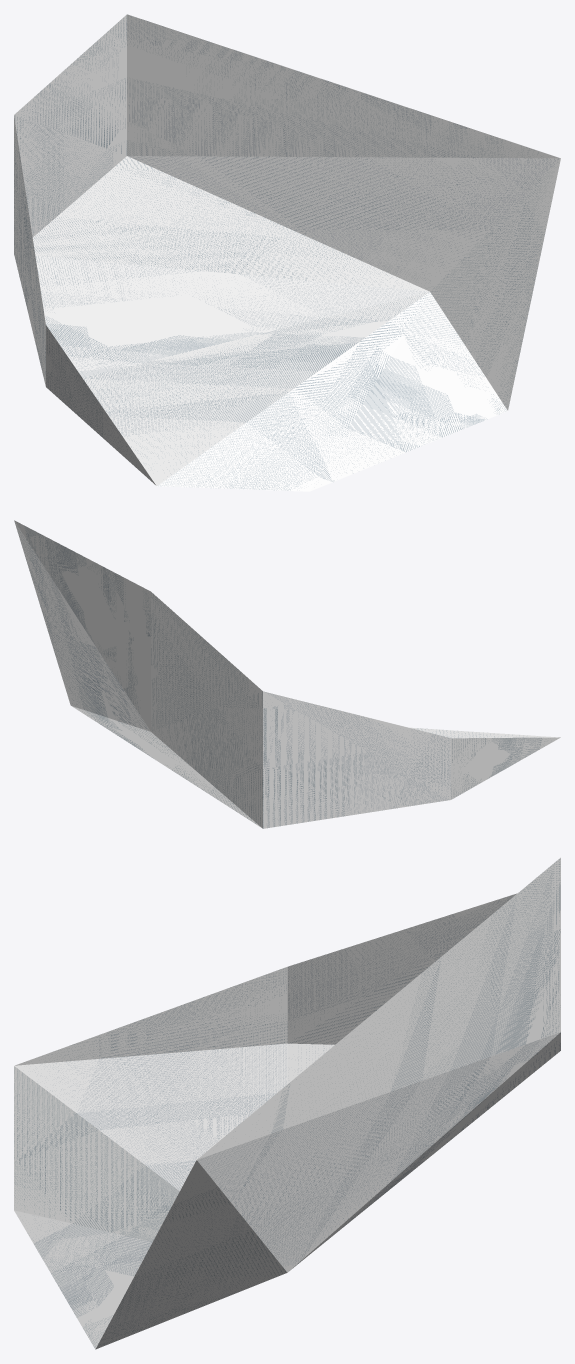
Rendered from FlatWeirdShape.fbx.
3 views of the same model, one above another, from view 1: azimuth 30°, elevation 25°; view 2: azimuth 150°, elevation 25°; view 3: azimuth 270°, elevation 25° (orthographic). The views are drawn at different scales.
Parts seen in each view (by area): view 1: Model; view 2: Model; view 3: Model.
Part boxes in pixels (left/top/right/bottom): Model: left=14, top=14, right=560, bottom=491; Model: left=14, top=520, right=560, bottom=828; Model: left=14, top=857, right=560, bottom=1349.
Size of the model in its own units: 4.98 by 3.04 by 4.
